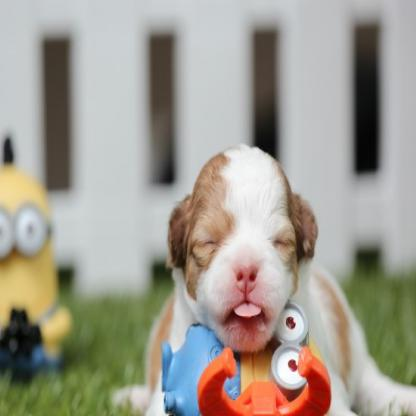dog: (160, 125, 326, 386)
